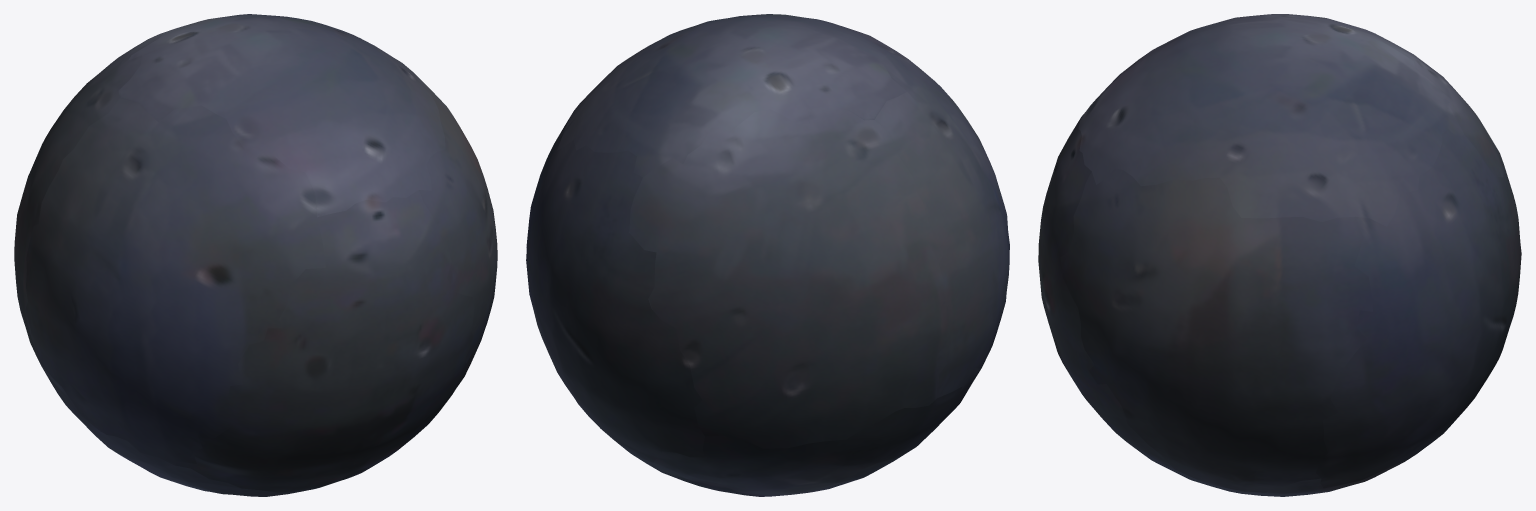
Rendered from PRJ-03.glb.
3 renders of one model, left to right at view 1: azimuth 30°, elevation 25°; view 2: azimuth 150°, elevation 25°; view 3: azimuth 270°, elevation 25°, orthographic.
Visible parts, largest first — view 1: PRJ-03; view 2: PRJ-03; view 3: PRJ-03.
Part boxes in pixels (<box>): PRJ-03: <box>14,14,497,496</box>; PRJ-03: <box>526,14,1009,496</box>; PRJ-03: <box>1038,14,1521,496</box>.
Bounding box in the file's own units: 0.3199 × 0.32 × 0.3202.
Materials: 1 (1 with a texture image).
